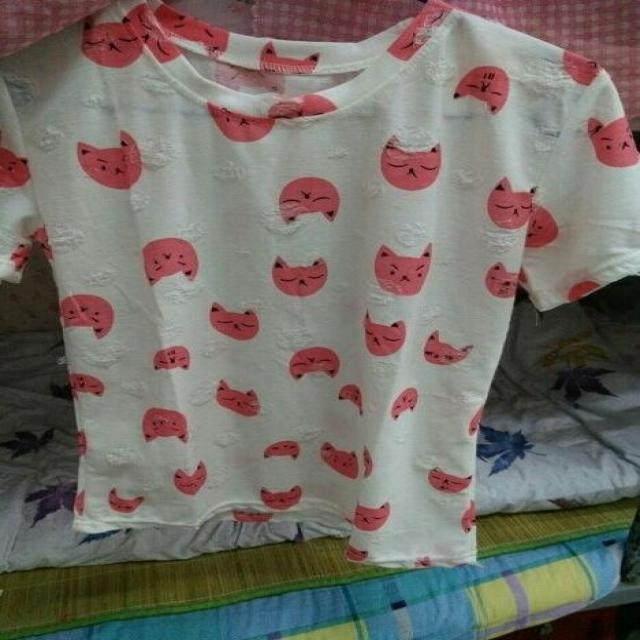short sleeve top: (0, 0, 640, 570)
